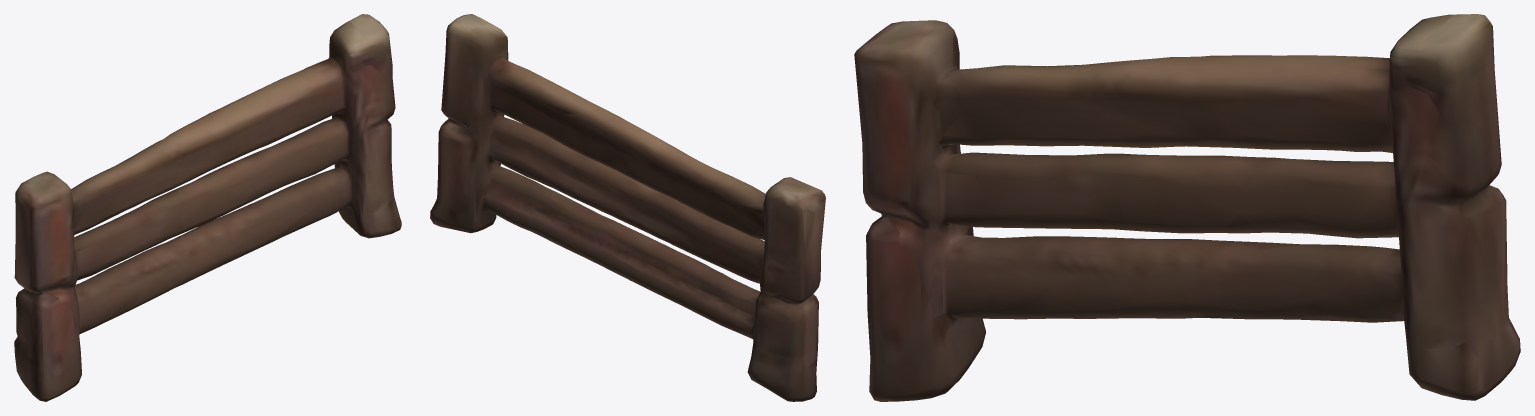
The model's file is v18_cerca.glb.
The picture shows the model from 3 angles, left to right: view 1: azimuth 30°, elevation 25°; view 2: azimuth 150°, elevation 25°; view 3: azimuth 330°, elevation 25°; orthographic projection. The views are drawn at different scales.
Parts seen in each view (by area): view 1: v18_cerca; view 2: v18_cerca; view 3: v18_cerca.
Boxes of the visible parts, x1,y1,x2,y2 form: v18_cerca: [14, 14, 401, 401]; v18_cerca: [430, 14, 825, 401]; v18_cerca: [854, 14, 1520, 401].
Size of the model in its own units: 0.6143 by 0.465 by 0.0918.
Materials: 1 (1 with a texture image).
